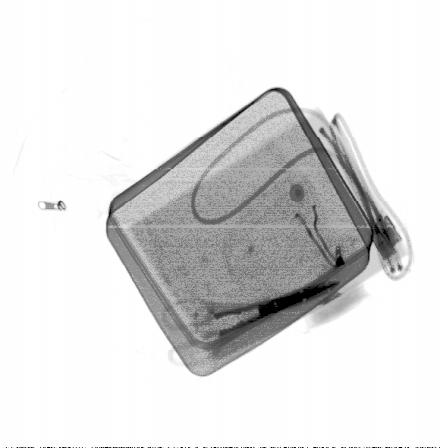Scissors: (187, 280, 341, 360)
